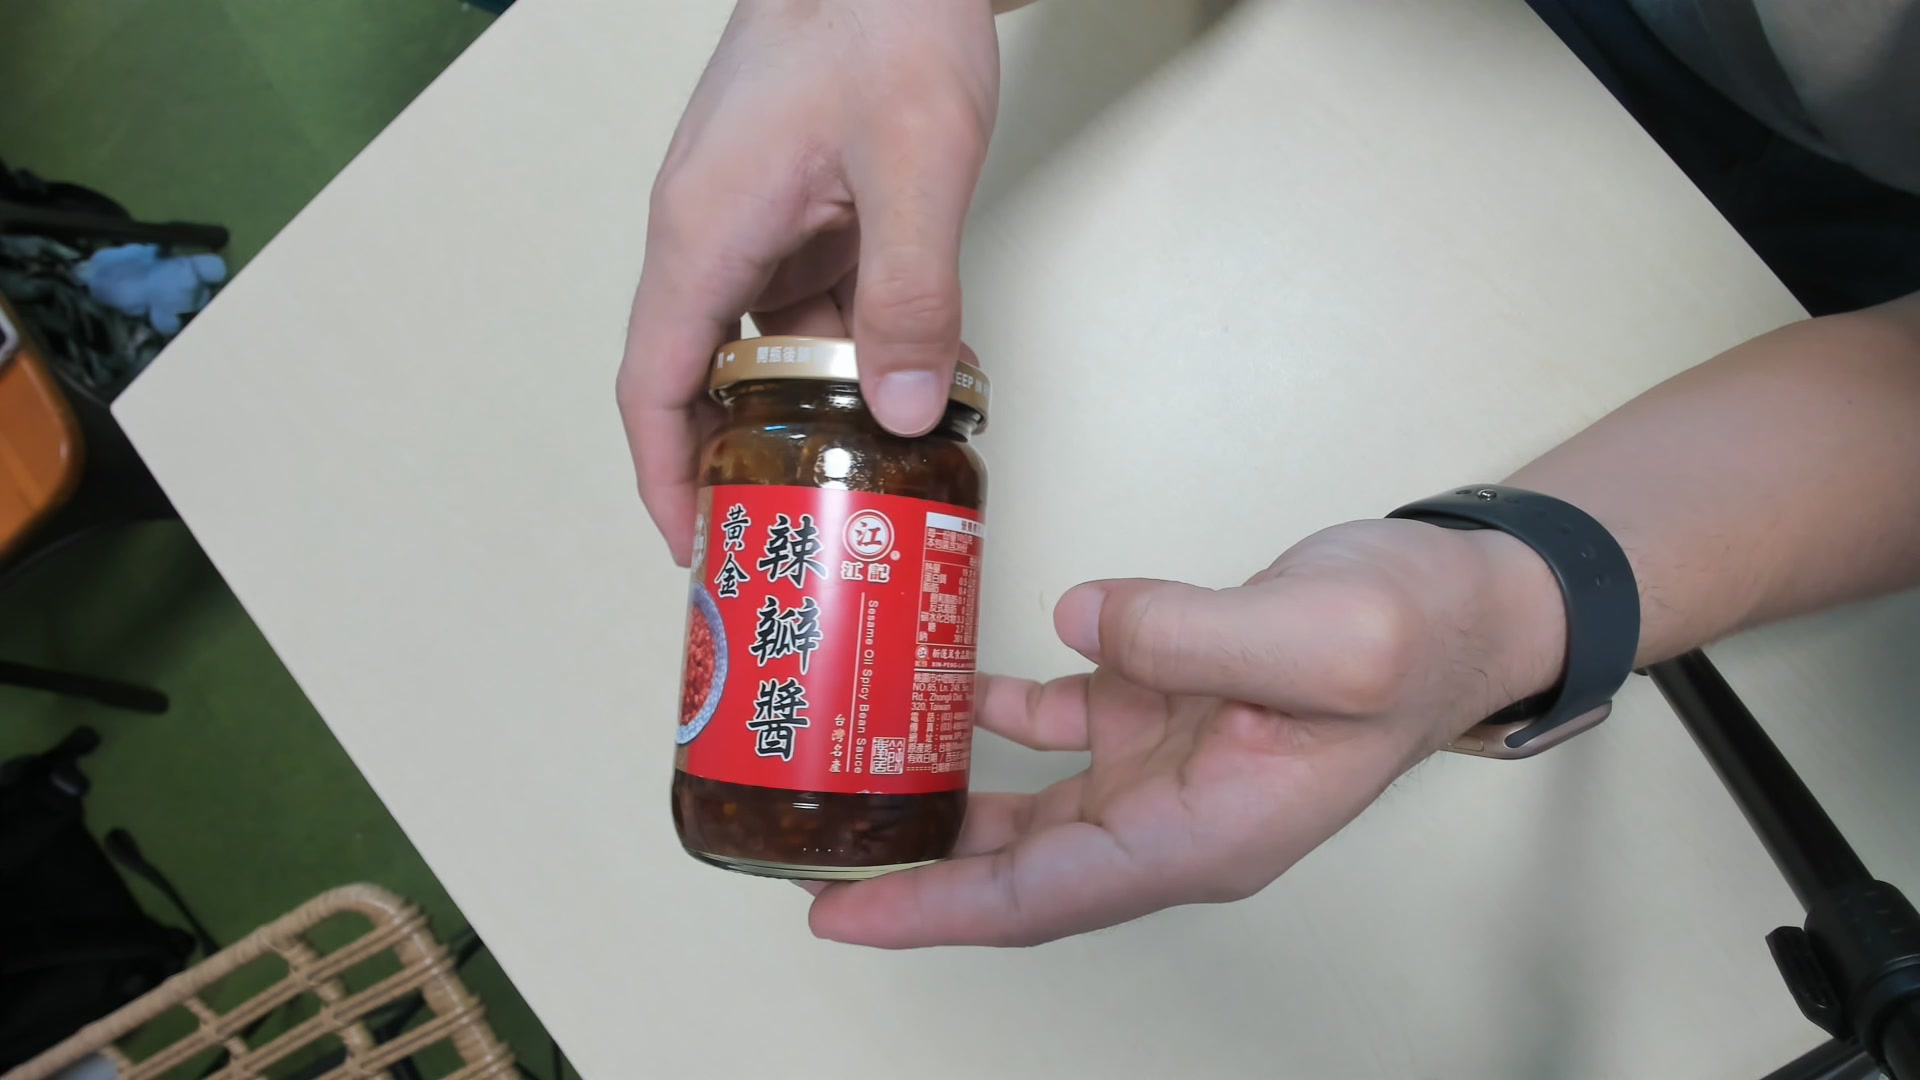OtherSauceDressing_300-399g_NonHalal_NonHealthy: (673, 334, 1000, 884)
